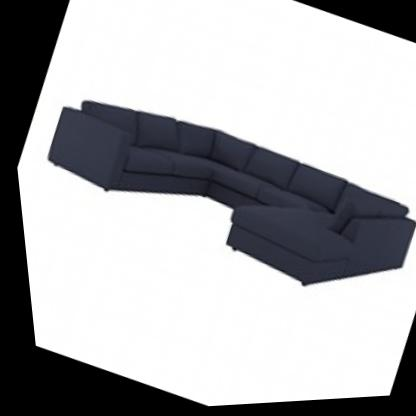Sofa: (9, 35, 416, 348)
